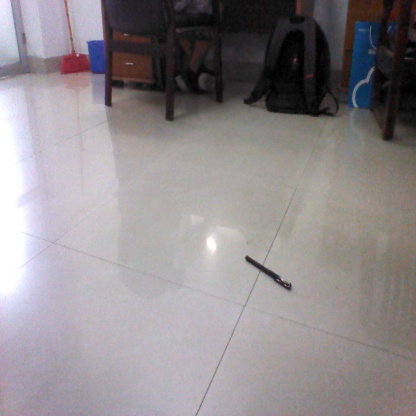pen: (243, 255, 293, 290)
